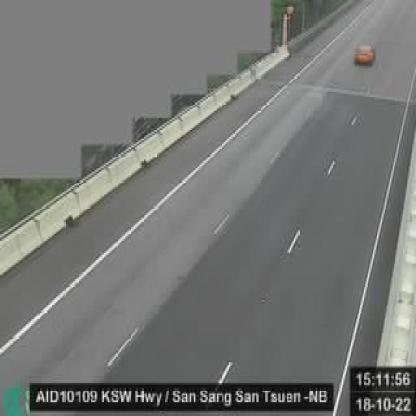Car: (353, 42, 375, 66)
